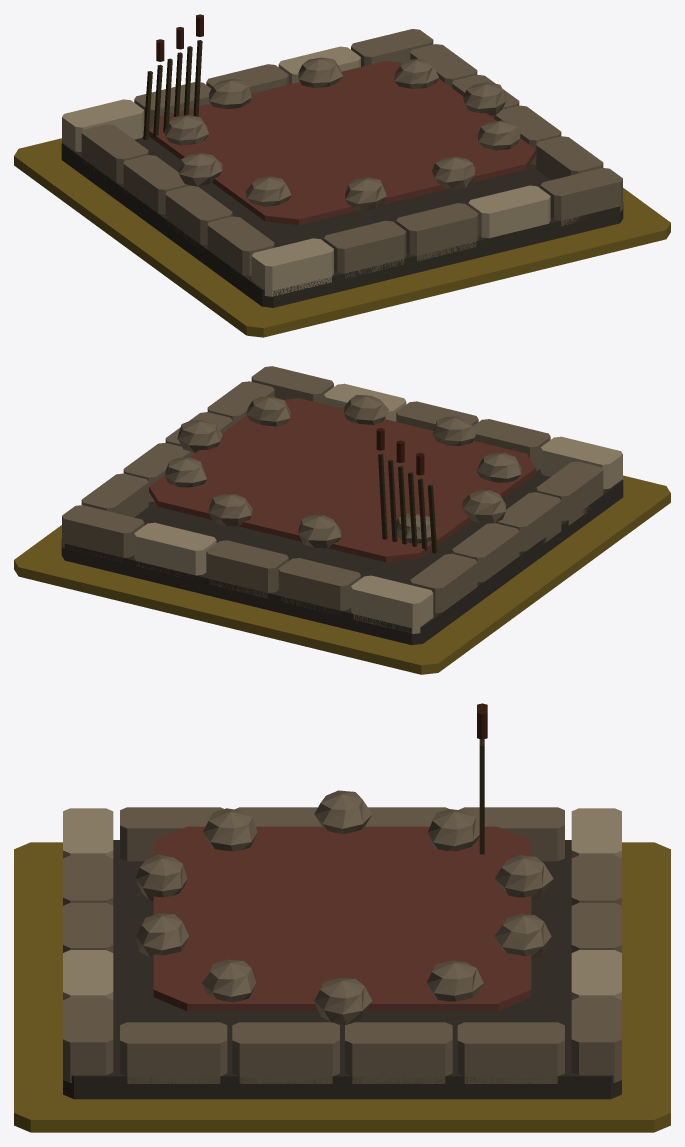
The model's file is pond_t1.glb.
The picture shows the model from 3 angles, top to bottom: view 1: azimuth 30°, elevation 25°; view 2: azimuth 150°, elevation 25°; view 3: azimuth 270°, elevation 25°; orthographic projection. The views are drawn at different scales.
Parts seen in each view (by area): view 1: MMR | pond | T01 Architecture.001, MMR | pond | Tier 01 Ground.001; view 2: MMR | pond | T01 Architecture.001, MMR | pond | Tier 01 Ground.001; view 3: MMR | pond | T01 Architecture.001, MMR | pond | Tier 01 Ground.001.
Part boxes in pixels (bbox=[...]): MMR | pond | T01 Architecture.001: bbox=[61, 14, 623, 307]; MMR | pond | Tier 01 Ground.001: bbox=[14, 138, 670, 337]; MMR | pond | T01 Architecture.001: bbox=[61, 366, 623, 645]; MMR | pond | Tier 01 Ground.001: bbox=[14, 475, 670, 674]; MMR | pond | T01 Architecture.001: bbox=[63, 703, 621, 1099]; MMR | pond | Tier 01 Ground.001: bbox=[14, 842, 670, 1132].
Size of the model in its own units: 2.35 by 0.88 by 2.35.
Materials: 1 (1 with a texture image).
